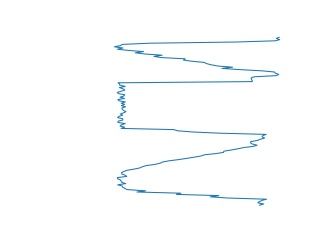distributaryChannelFill: (114, 73, 271, 141)
mouthBar: (115, 36, 284, 81)
underwaterDistributaryChannel: (115, 140, 271, 208)
